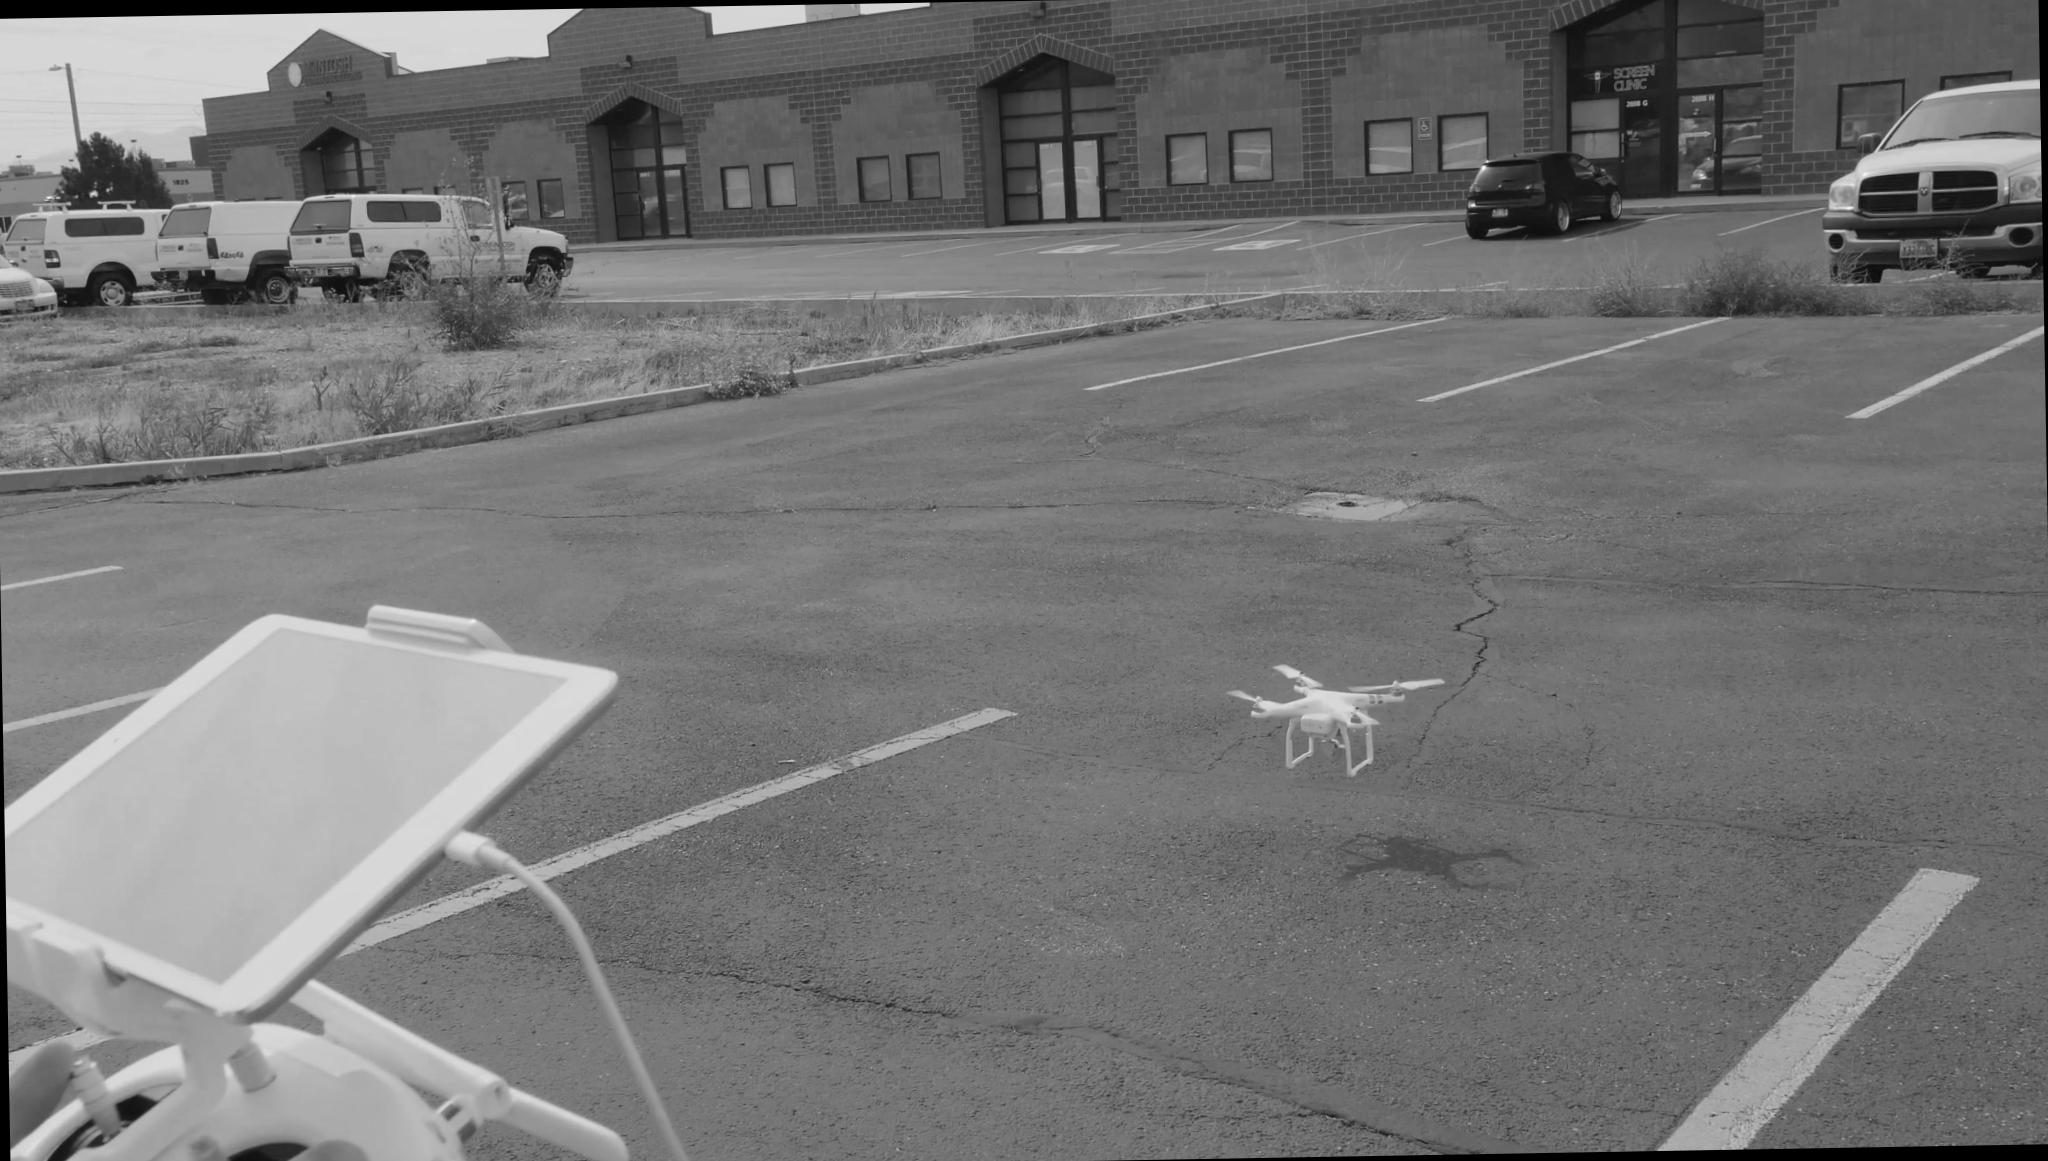drone: (1235, 654, 1445, 775)
